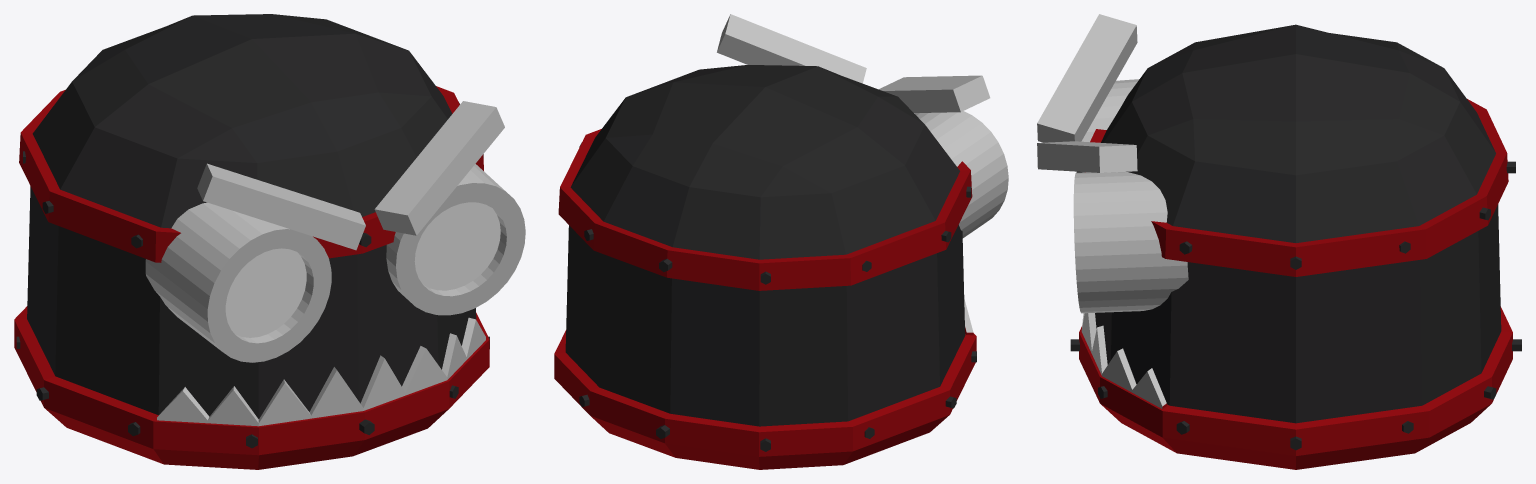
File: BossHead.fbx
The picture shows the model from 3 angles, left to right: view 1: azimuth 30°, elevation 25°; view 2: azimuth 150°, elevation 25°; view 3: azimuth 270°, elevation 25°; orthographic projection. The views are drawn at different scales.
Parts seen in each view (by area): view 1: Head; view 2: Head; view 3: Head.
Part boxes in pixels (x1,y1,x2,y2): Head: (14, 14, 525, 469); Head: (554, 14, 1008, 469); Head: (1037, 14, 1521, 469).
Bounding box in the file's own units: 792 × 613 × 818.
